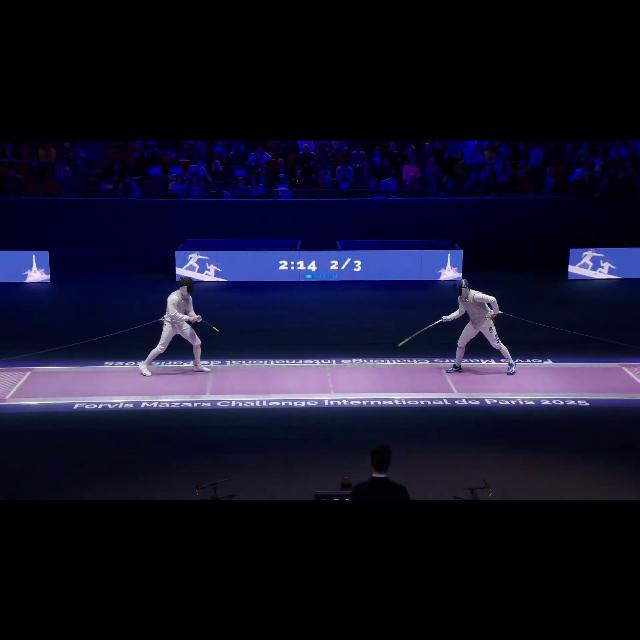blade: (397, 314, 451, 352), (192, 316, 225, 334)
